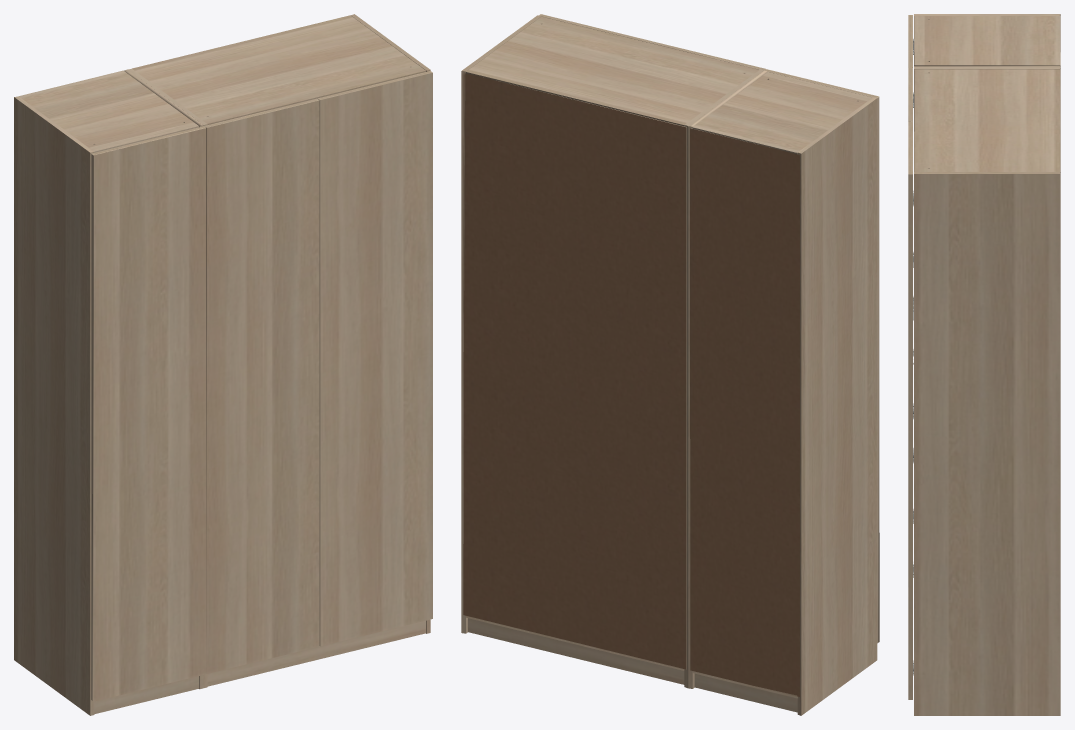
The model's file is 16 - PAX FORSAND Wardrobe combination - white stained oak effectwhite stained oak effect 150x60x236 cm.glb.
The picture shows the model from 3 angles, left to right: view 1: azimuth 30°, elevation 25°; view 2: azimuth 150°, elevation 25°; view 3: azimuth 270°, elevation 25°; orthographic projection. The views are drawn at different scales.
Visible parts, largest first — view 1: Mesh_0; view 2: Mesh_0; view 3: Mesh_0.
Part boxes in pixels (x1,y1,x2,y2): Mesh_0: (14, 14, 432, 715); Mesh_0: (461, 14, 879, 715); Mesh_0: (908, 14, 1060, 715).
Size of the model in its own units: 1.49 by 2.36 by 0.601.
Materials: 1 (1 with a texture image).
